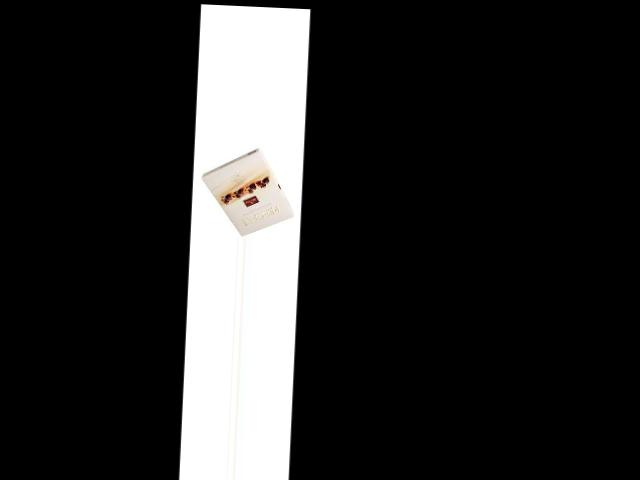chocolate: (191, 143, 297, 237)
